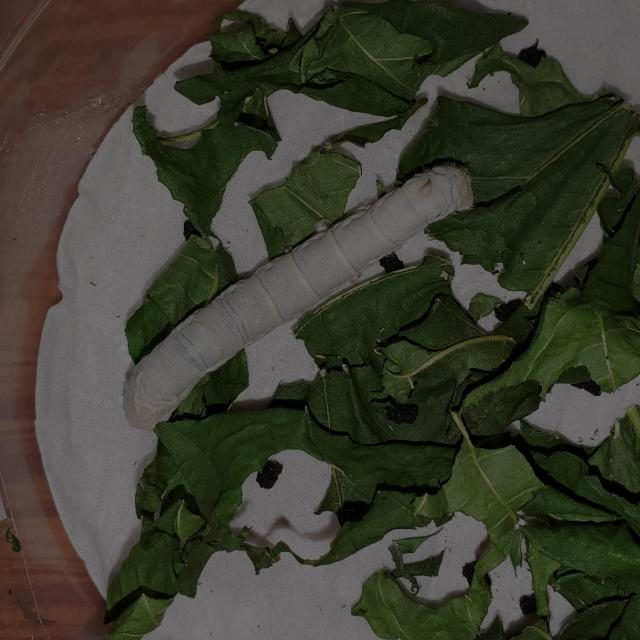Healthy: (79, 134, 558, 480)
